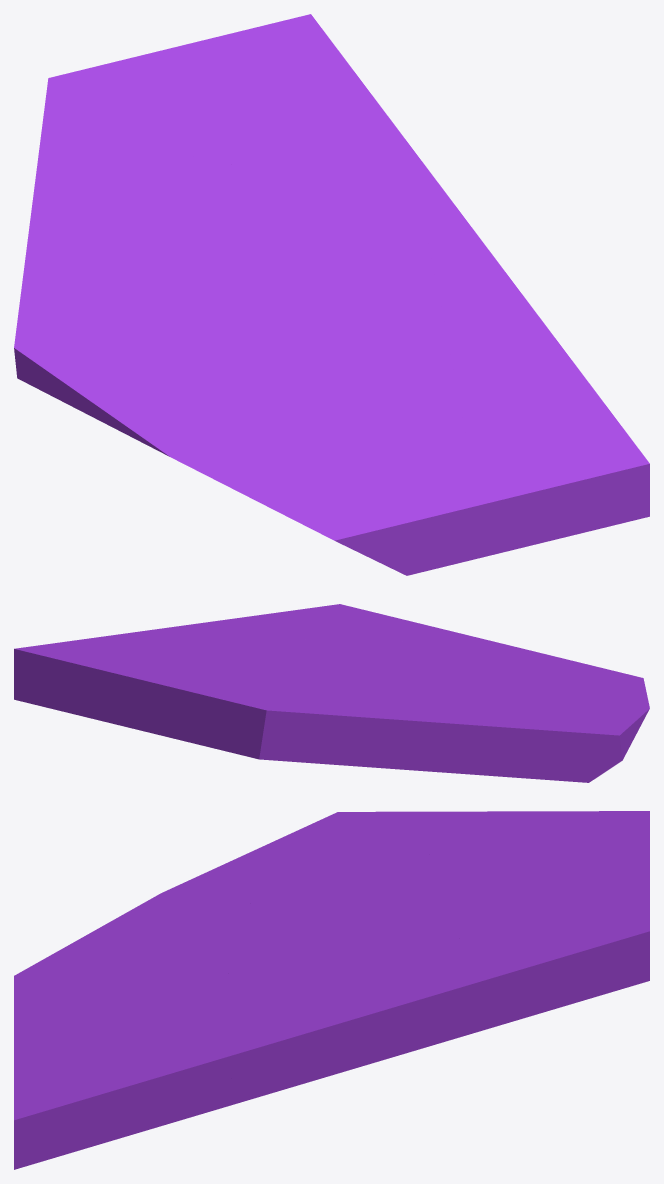
The model's file is Window_157_2_chunks.fbx.
The picture shows the model from 3 angles, top to bottom: view 1: azimuth 30°, elevation 25°; view 2: azimuth 150°, elevation 25°; view 3: azimuth 270°, elevation 25°; orthographic projection. The views are drawn at different scales.
Parts seen in each view (by area): view 1: Window_157_2_6, Window_157_2_2, Window_157_2_0, Window_157_2_3, Window_157_2_7, Window_157_2_13, Window_157_2_12, Window_157_2_9, Window_157_2_31, Window_157_2_14, Window_157_2_4, Window_157_2_16 (+11 smaller); view 2: Window_157_2_0, Window_157_2_13, Window_157_2_10, Window_157_2_6, Window_157_2_3, Window_157_2_2, Window_157_2_12, Window_157_2_7, Window_157_2_9, Window_157_2_31, Window_157_2_14, Window_157_2_4 (+8 smaller); view 3: Window_157_2_2, Window_157_2_0, Window_157_2_6, Window_157_2_24, Window_157_2_3, Window_157_2_7, Window_157_2_22, Window_157_2_13, Window_157_2_12, Window_157_2_9, Window_157_2_31, Window_157_2_14 (+9 smaller).
Boxes of the visible parts, left/top/right/bottom form: Window_157_2_6: left=236, top=353, right=544, bottom=575; Window_157_2_2: left=446, top=303, right=649, bottom=546; Window_157_2_0: left=102, top=14, right=357, bottom=177; Window_157_2_3: left=14, top=326, right=246, bottom=484; Window_157_2_7: left=231, top=201, right=356, bottom=378; Window_157_2_13: left=39, top=65, right=193, bottom=191; Window_157_2_12: left=21, top=151, right=136, bottom=319; Window_157_2_9: left=291, top=77, right=420, bottom=228; Window_157_2_31: left=352, top=292, right=466, bottom=438; Window_157_2_14: left=94, top=156, right=251, bottom=274; Window_157_2_4: left=97, top=312, right=306, bottom=389; Window_157_2_16: left=45, top=270, right=232, bottom=331; Window_157_2_0: left=14, top=642, right=265, bottom=744; Window_157_2_13: left=198, top=683, right=374, bottom=766; Window_157_2_10: left=359, top=725, right=602, bottom=782; Window_157_2_6: left=431, top=629, right=644, bottom=691; Window_157_2_3: left=524, top=689, right=649, bottom=782; Window_157_2_2: left=224, top=604, right=440, bottom=642; Window_157_2_12: left=347, top=698, right=558, bottom=740; Window_157_2_7: left=253, top=655, right=431, bottom=685; Window_157_2_9: left=60, top=635, right=255, bottom=665; Window_157_2_31: left=284, top=639, right=431, bottom=662; Window_157_2_14: left=244, top=672, right=475, bottom=713; Window_157_2_4: left=431, top=672, right=537, bottom=715; Window_157_2_2: left=14, top=1015, right=248, bottom=1169; Window_157_2_0: left=457, top=835, right=649, bottom=995; Window_157_2_6: left=14, top=920, right=245, bottom=1071; Window_157_2_24: left=370, top=963, right=600, bottom=1061; Window_157_2_3: left=113, top=812, right=352, bottom=928; Window_157_2_7: left=201, top=912, right=431, bottom=975; Window_157_2_22: left=220, top=1009, right=378, bottom=1108; Window_157_2_13: left=487, top=811, right=649, bottom=884; Window_157_2_12: left=359, top=811, right=565, bottom=860; Window_157_2_9: left=383, top=934, right=560, bottom=995; Window_157_2_31: left=97, top=970, right=295, bottom=1031; Window_157_2_14: left=382, top=845, right=513, bottom=913.
Size of the model in its own units: 919 by 482 by 1165.
